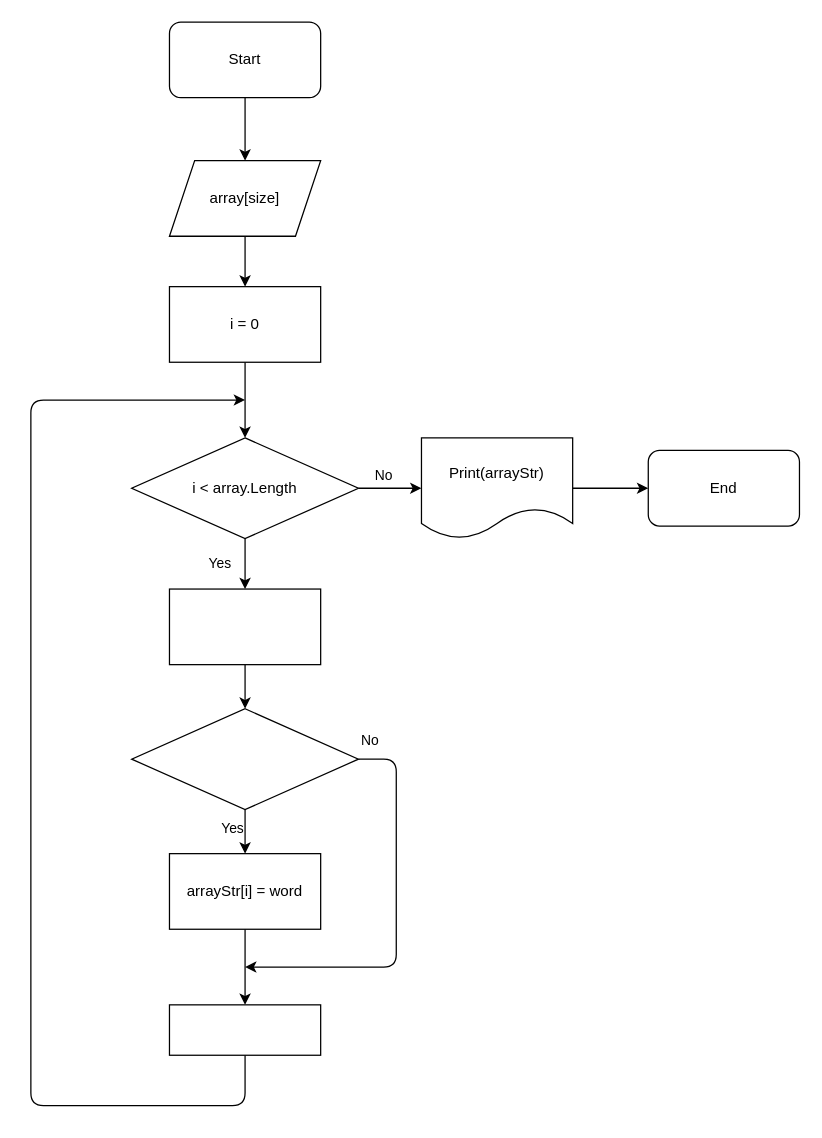
This 822x1138 diagram has some shape labels left out. The centre of each missing label's shape, as x and y in pixels:
"i++" belongs at point 244,1029.
"word = array[i]" belongs at point 244,626.
"word.Length < 4" belongs at point 244,758.
